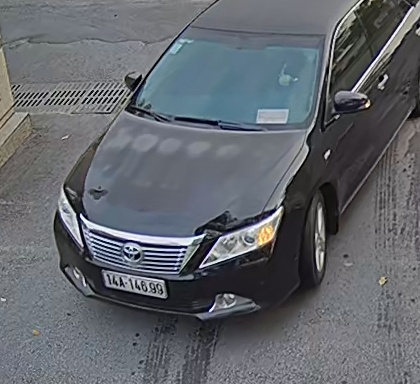vehicle plate: (98, 263, 172, 300)
